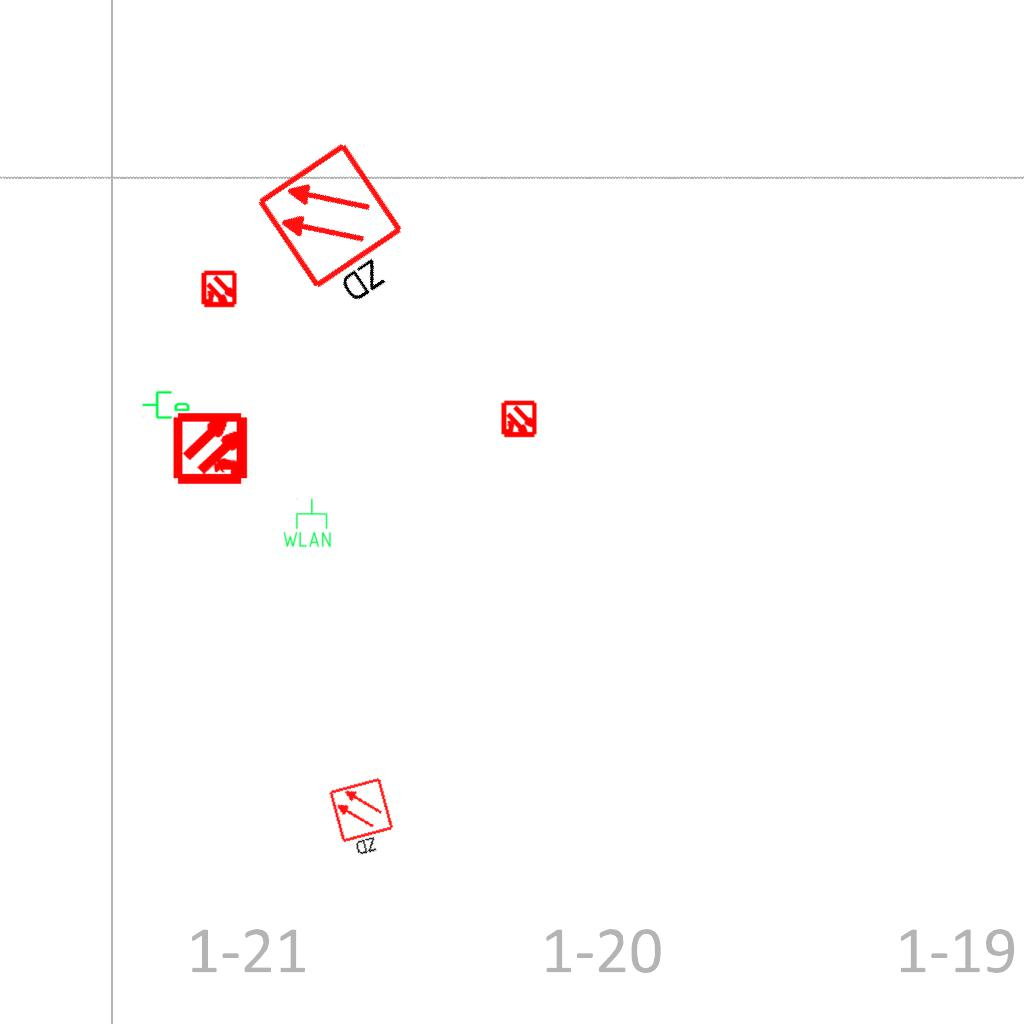Datenanschluss_einfach: (141, 387, 191, 421)
OT_Multisensormelder_(Kombination_RMO_WMD): (156, 392, 269, 505), (191, 262, 247, 318), (491, 392, 547, 448)
WLAN: (281, 497, 333, 549)
ZD_Melder_in_Zwischendecke_mit_Revisionsoeffnung_mind_40_x_40_cm: (253, 136, 431, 325), (327, 775, 402, 863)
